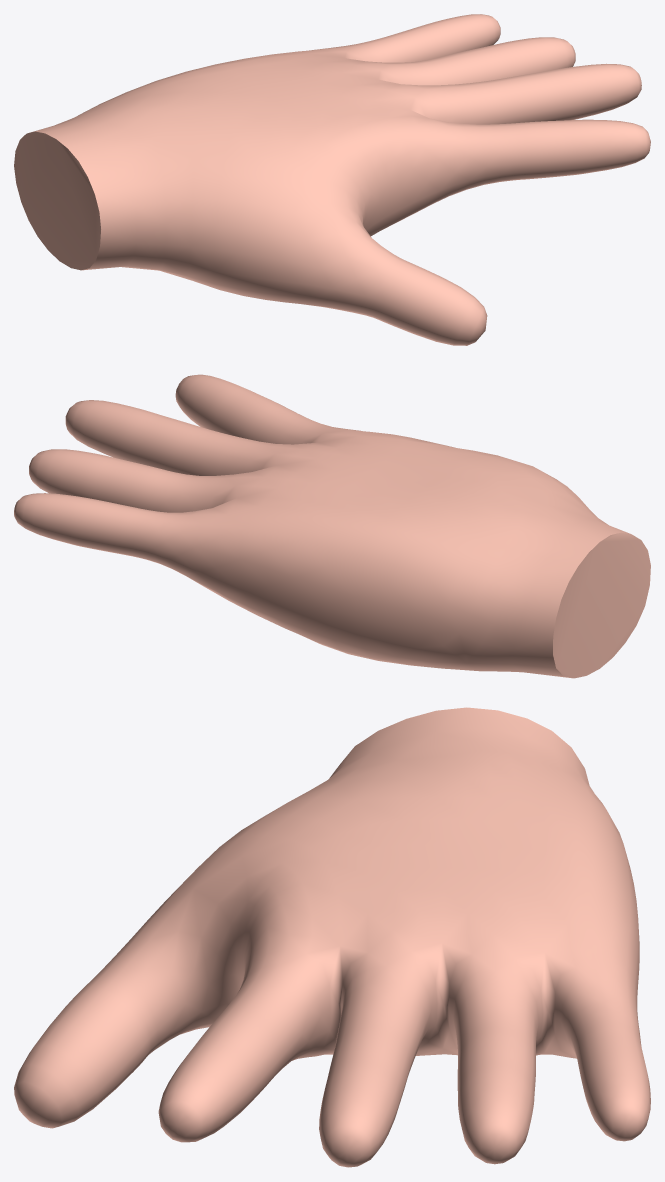
The model's file is Hand_Woman_L_01.fbx.
3 renders of one model, top to bottom at view 1: azimuth 30°, elevation 25°; view 2: azimuth 150°, elevation 25°; view 3: azimuth 270°, elevation 25°, orthographic. The views are drawn at different scales.
Visible parts, largest first — view 1: Hand_L_01; view 2: Hand_L_01; view 3: Hand_L_01.
Boxes of the visible parts, x1,y1,x2,y2 form: Hand_L_01: (14, 14, 650, 345); Hand_L_01: (14, 374, 650, 678); Hand_L_01: (14, 707, 650, 1167).
Size of the model in its own units: 0.3779 by 0.1128 by 0.2664.
